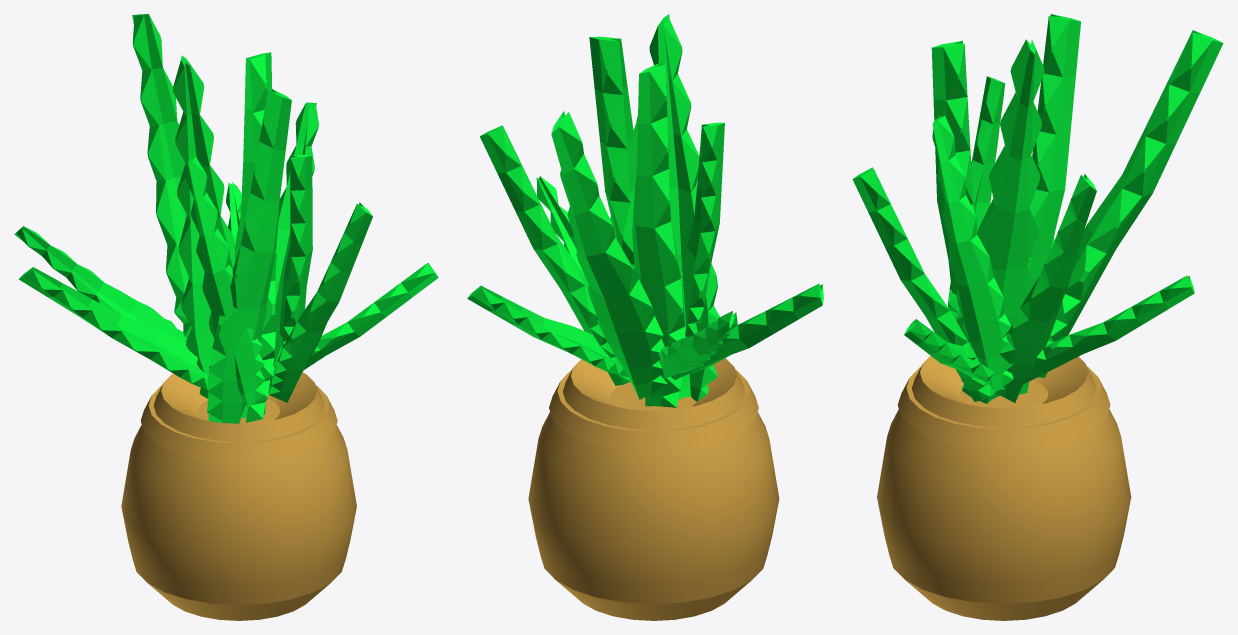
The model's file is VasoAloeVera.fbx.
3 renders of one model, left to right at view 1: azimuth 30°, elevation 25°; view 2: azimuth 150°, elevation 25°; view 3: azimuth 270°, elevation 25°, orthographic. The views are drawn at different scales.
Parts seen in each view (by area): view 1: AloeVera, Vaso2.001; view 2: AloeVera, Vaso2.001; view 3: AloeVera, Vaso2.001.
Part boxes in pixels (x1,y1,x2,y2): AloeVera: [14, 14, 438, 423]; Vaso2.001: [121, 372, 356, 620]; AloeVera: [467, 14, 823, 407]; Vaso2.001: [528, 358, 779, 620]; AloeVera: [852, 14, 1223, 403]; Vaso2.001: [877, 355, 1131, 620].
Size of the model in its own units: 63.46 by 91.41 by 55.13.
1 material, 1 textured.
